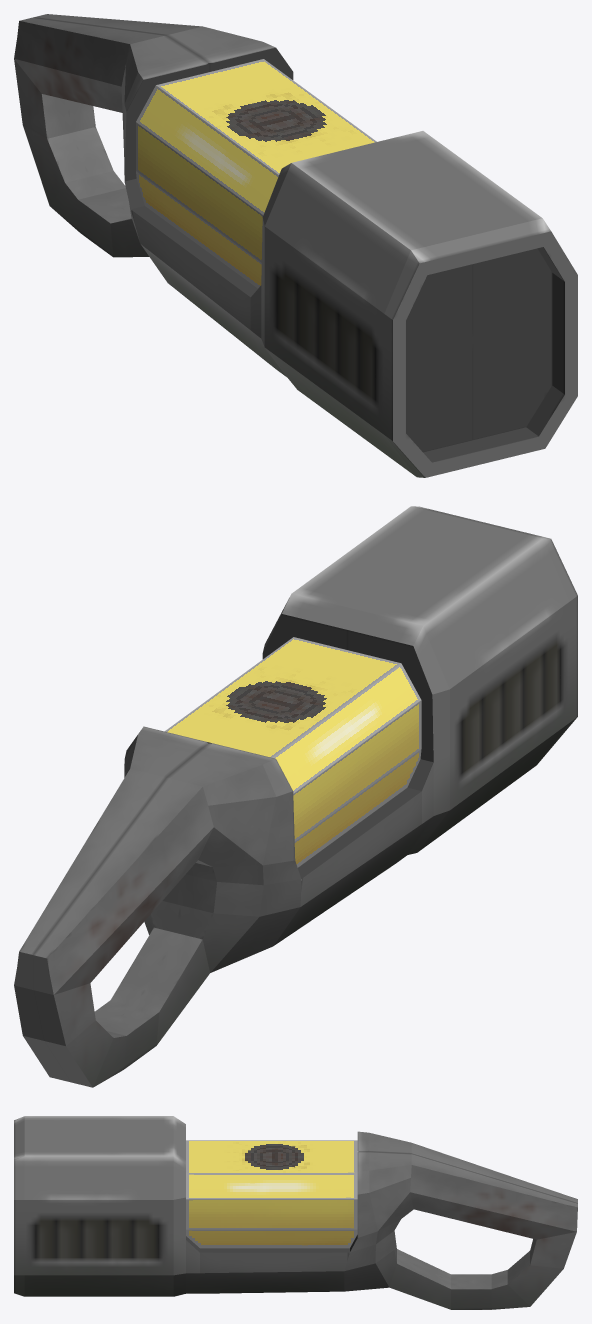
The model's file is FPSPacMan - Stungun - Merged.fbx.
3 views of the same model, one above another, from view 1: azimuth 30°, elevation 25°; view 2: azimuth 150°, elevation 25°; view 3: azimuth 270°, elevation 25° (orthographic). The views are drawn at different scales.
Visible parts, largest first — view 1: Cube.003; view 2: Cube.003; view 3: Cube.003.
Part boxes in pixels (bbox=[...]): Cube.003: bbox=[14, 14, 577, 477]; Cube.003: bbox=[14, 506, 577, 1087]; Cube.003: bbox=[14, 1116, 577, 1309].
Size of the model in its own units: 118 by 163 by 499.
